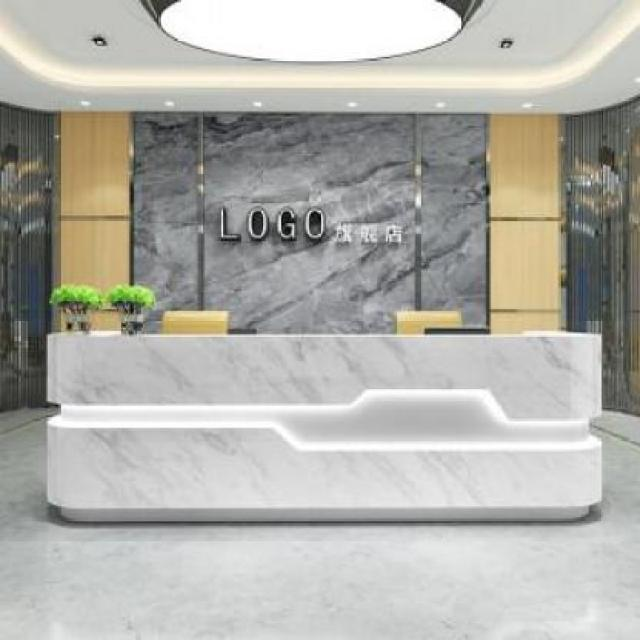frontdesk: (31, 309, 611, 532)
